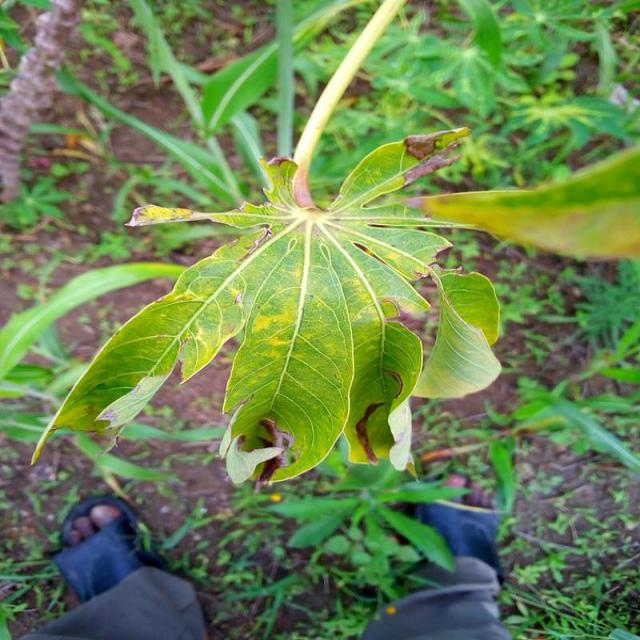cassava leaf: (29, 129, 502, 486)
